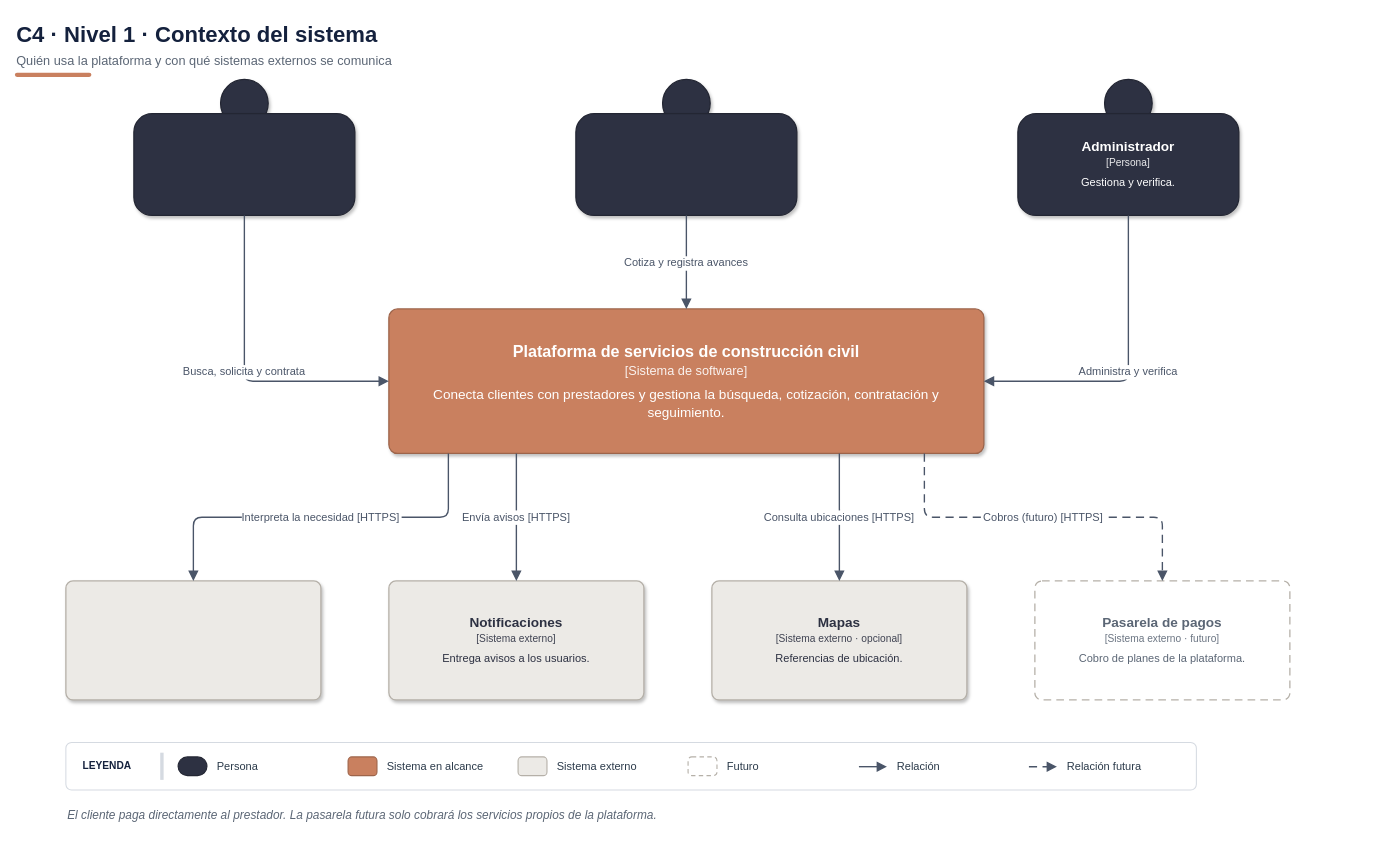
This 1389x842 diagram has some shape labels left out. Each missing label, with the centre of its shape:
Cliente [Persona] Busca, contrata y califica.: (244,165)
Prestador [Persona] Cotiza y ejecuta trabajos.: (686,165)
Servicio de IA [Sistema externo] Interpreta la necesidad descrita.: (193,641)
